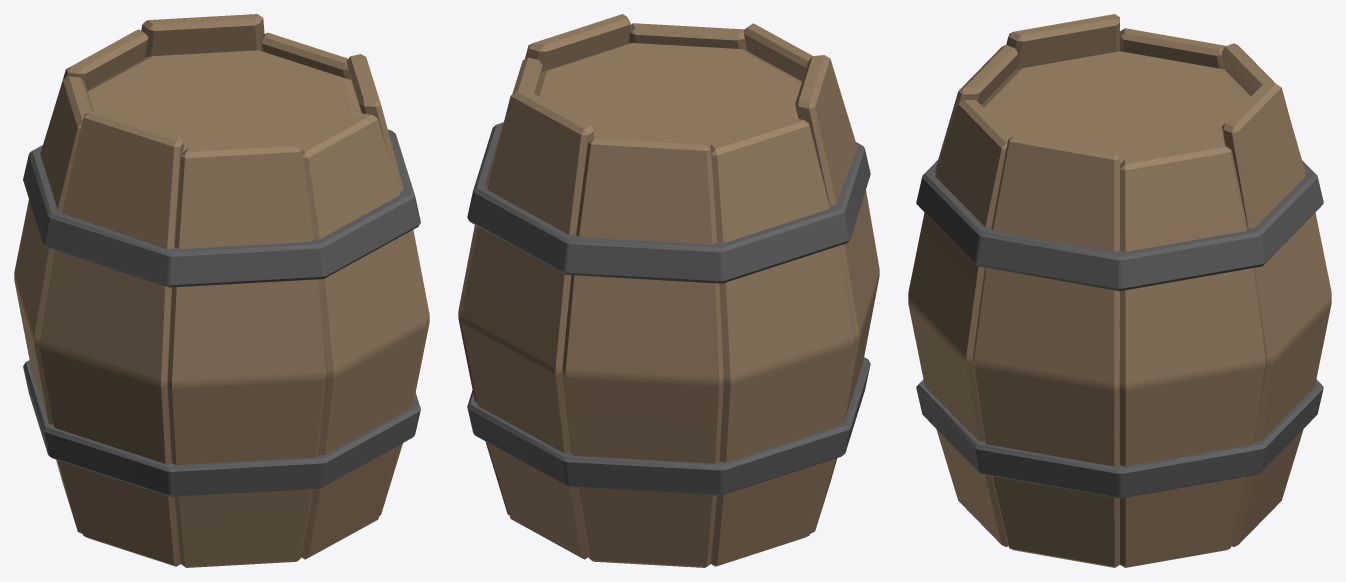
File: env_Barrel.fbx
The picture shows the model from 3 angles, left to right: view 1: azimuth 30°, elevation 25°; view 2: azimuth 150°, elevation 25°; view 3: azimuth 270°, elevation 25°; orthographic projection. The views are drawn at different scales.
Visible parts, largest first — view 1: env_Barrel_01; view 2: env_Barrel_01; view 3: env_Barrel_01.
Boxes of the visible parts, x1,y1,x2,y2 form: env_Barrel_01: (14,14,429,567); env_Barrel_01: (458,14,879,567); env_Barrel_01: (908,14,1331,567).
Bounding box in the file's own units: 69.83 × 76.82 × 69.83.
